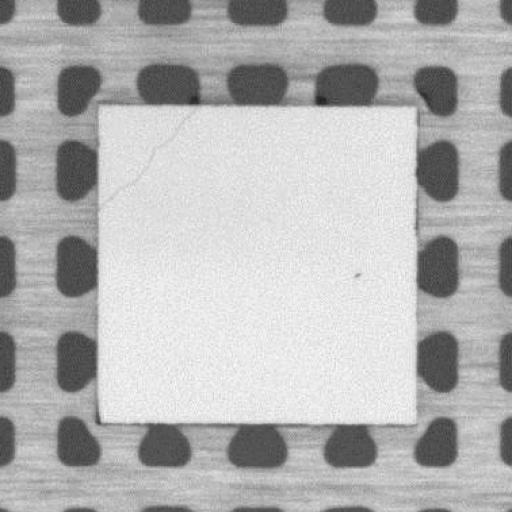DIE_INK: (351, 266, 363, 280)
